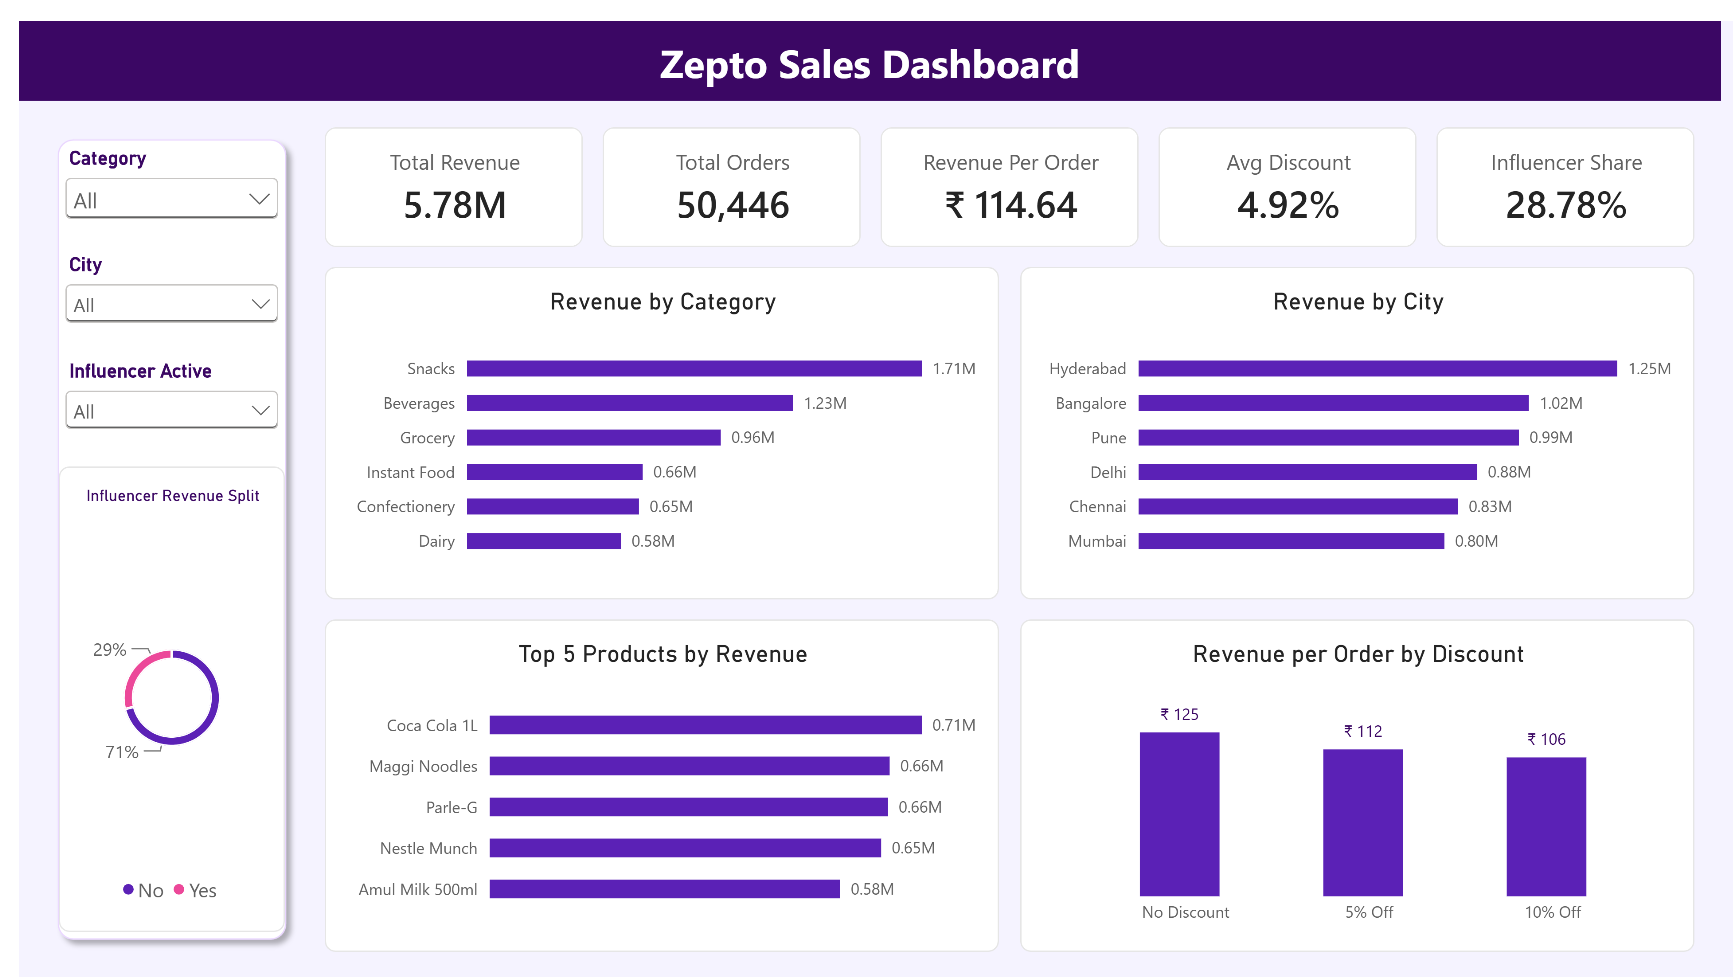

The dashboard page shown, as its layout file describes it:
{"tool":"powerbi","page":{"name":"Zepto_project","canvas":[1920,1080],"ordinal":0},"visuals":[{"type":"cardVisual","fields":{"Data":["Measures (2).Total Revenue"]},"box":[230,80,194,90],"z":0},{"type":"cardVisual","fields":{"Data":["Measures (2).Total Orders"]},"box":[439,80,194,90],"z":1000},{"type":"cardVisual","fields":{"Data":["Measures (2).Revenue Per Order"]},"box":[648,80,194,90],"z":2000},{"type":"cardVisual","fields":{"Data":["Measures (2).Avg Discount"]},"box":[857,80,194,90],"z":3000},{"type":"cardVisual","title":"Influencer Share","fields":{"Data":["Measures (2).Influencer Revenue Share %"]},"box":[1066,80,194,90],"z":4000},{"type":"shape","box":[0,0,1280,60],"z":5000},{"type":"clusteredBarChart","title":"Revenue by Category","fields":{"Category":["zepto_sales_dataset.Category"],"Y":["Measures (2).Total Revenue"]},"box":[230,185,507,250],"z":6000},{"type":"clusteredBarChart","title":"Revenue by City","fields":{"Y":["Measures (2).Total Revenue"],"Category":["zepto_sales_dataset.City"]},"box":[753,185,507,250],"z":7000},{"type":"clusteredBarChart","title":"Top 5 Products by Revenue","fields":{"Y":["Measures (2).Total Revenue"],"Category":["zepto_sales_dataset.Product"]},"box":[230,450,507,250],"z":8000},{"type":"clusteredColumnChart","title":"Revenue per Order by Discount","fields":{"Category":["zepto_sales_dataset.Discount_Band"],"Y":["Measures (2).Revenue Per Order"]},"box":[753.3,450,507,250],"z":9000},{"type":"shape","box":[20,80,190,620],"z":10000},{"type":"slicer","fields":{"Values":["zepto_sales_dataset.Category"]},"box":[30,95,170,60],"z":11000},{"type":"slicer","fields":{"Values":["zepto_sales_dataset.City"]},"box":[30,175,170,60],"z":12000},{"type":"slicer","fields":{"Values":["zepto_sales_dataset.Influencer_active"]},"box":[30,255,170,60],"z":13000},{"type":"donutChart","title":"Influencer Revenue Split","fields":{"Category":["zepto_sales_dataset.Influencer_active"],"Y":["Measures (2).Total Revenue"]},"box":[30,335,170,350],"z":14000}]}

Visuals, with their boxes in screenshot pixels (x1, y1, x2, y2), scaled from the page's 1920x1080 canvas onto the 1733x977 screenshot:
cardVisual - Measures (2).Total Revenue: rect(208, 72, 383, 154)
cardVisual - Measures (2).Total Orders: rect(396, 72, 571, 154)
cardVisual - Measures (2).Revenue Per Order: rect(585, 72, 760, 154)
cardVisual - Measures (2).Avg Discount: rect(774, 72, 949, 154)
"Influencer Share" cardVisual: rect(962, 72, 1137, 154)
shape: rect(0, 0, 1155, 54)
"Revenue by Category" clusteredBarChart: rect(208, 167, 665, 394)
"Revenue by City" clusteredBarChart: rect(680, 167, 1137, 394)
"Top 5 Products by Revenue" clusteredBarChart: rect(208, 407, 665, 633)
"Revenue per Order by Discount" clusteredColumnChart: rect(680, 407, 1138, 633)
shape: rect(18, 72, 190, 633)
slicer - zepto_sales_dataset.Category: rect(27, 86, 181, 140)
slicer - zepto_sales_dataset.City: rect(27, 158, 181, 213)
slicer - zepto_sales_dataset.Influencer_active: rect(27, 231, 181, 285)
"Influencer Revenue Split" donutChart: rect(27, 303, 181, 620)
